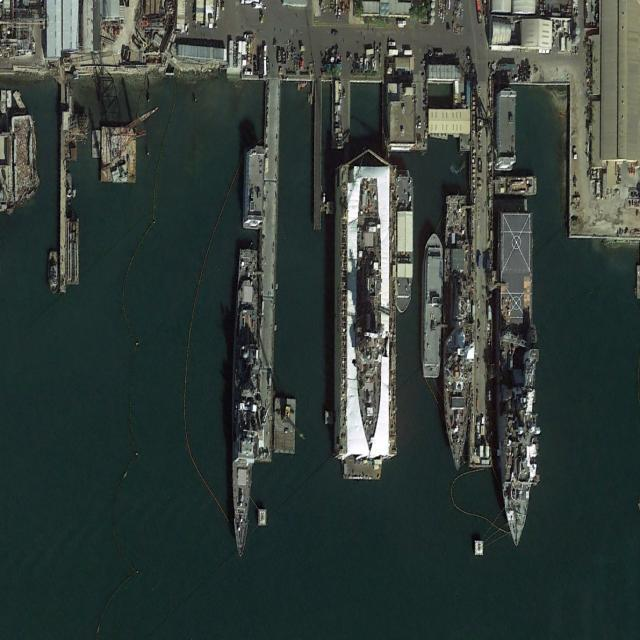Cruiser: (225, 247, 266, 560)
Destroyer: (443, 193, 470, 472)
Landing: (495, 210, 541, 548)
Other Ship: (420, 230, 443, 378), (393, 174, 414, 313)
Other Warship: (356, 177, 380, 452)
